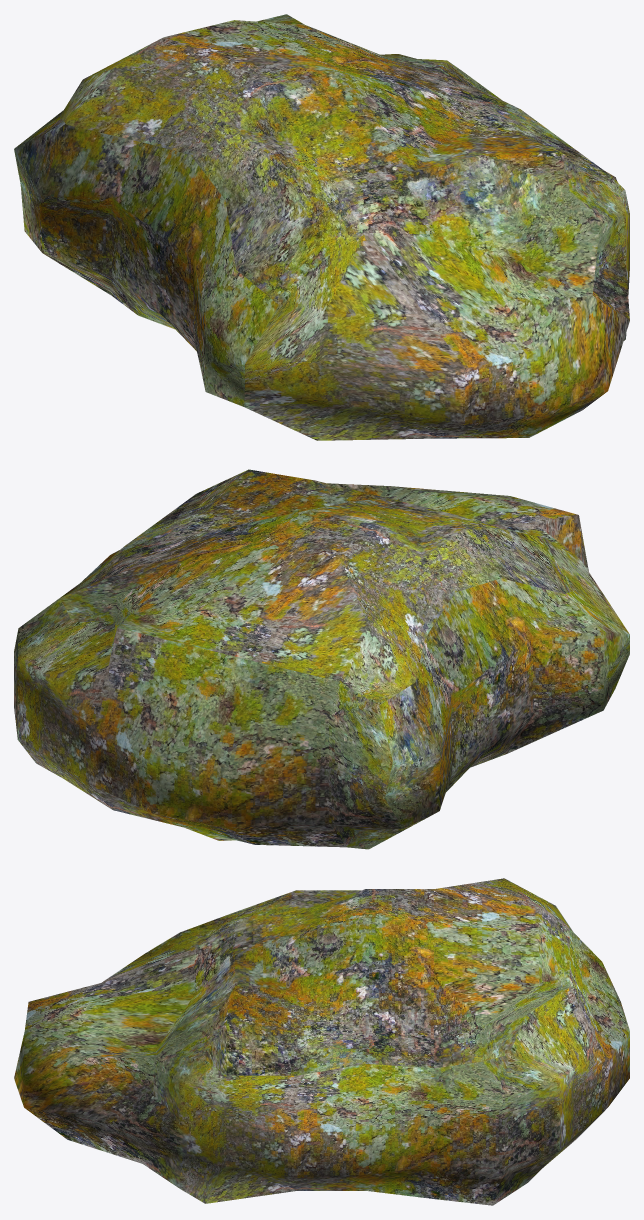
File: rock_mossy_01.dae
The picture shows the model from 3 angles, top to bottom: view 1: azimuth 30°, elevation 25°; view 2: azimuth 150°, elevation 25°; view 3: azimuth 270°, elevation 25°; orthographic projection. The views are drawn at different scales.
Visible parts, largest first — view 1: pCube1; view 2: pCube1; view 3: pCube1.
Part boxes in pixels (x1,y1,x2,y2): pCube1: (14,14,629,440); pCube1: (14,469,629,849); pCube1: (14,878,629,1205).
Bounding box in the file's own units: 4.25 × 2.5 × 5.92.
